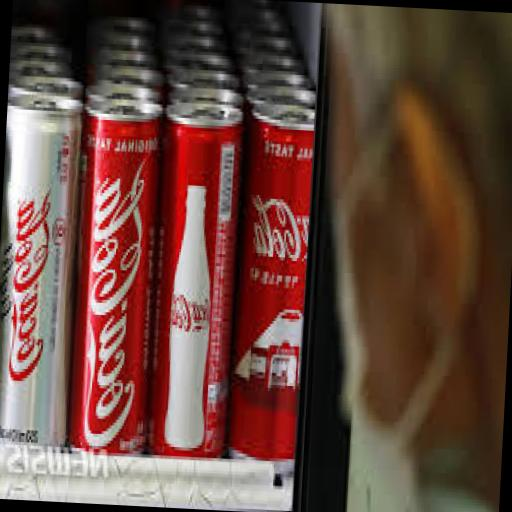Coca: (66, 96, 165, 472), (148, 93, 245, 465), (226, 100, 317, 474)
